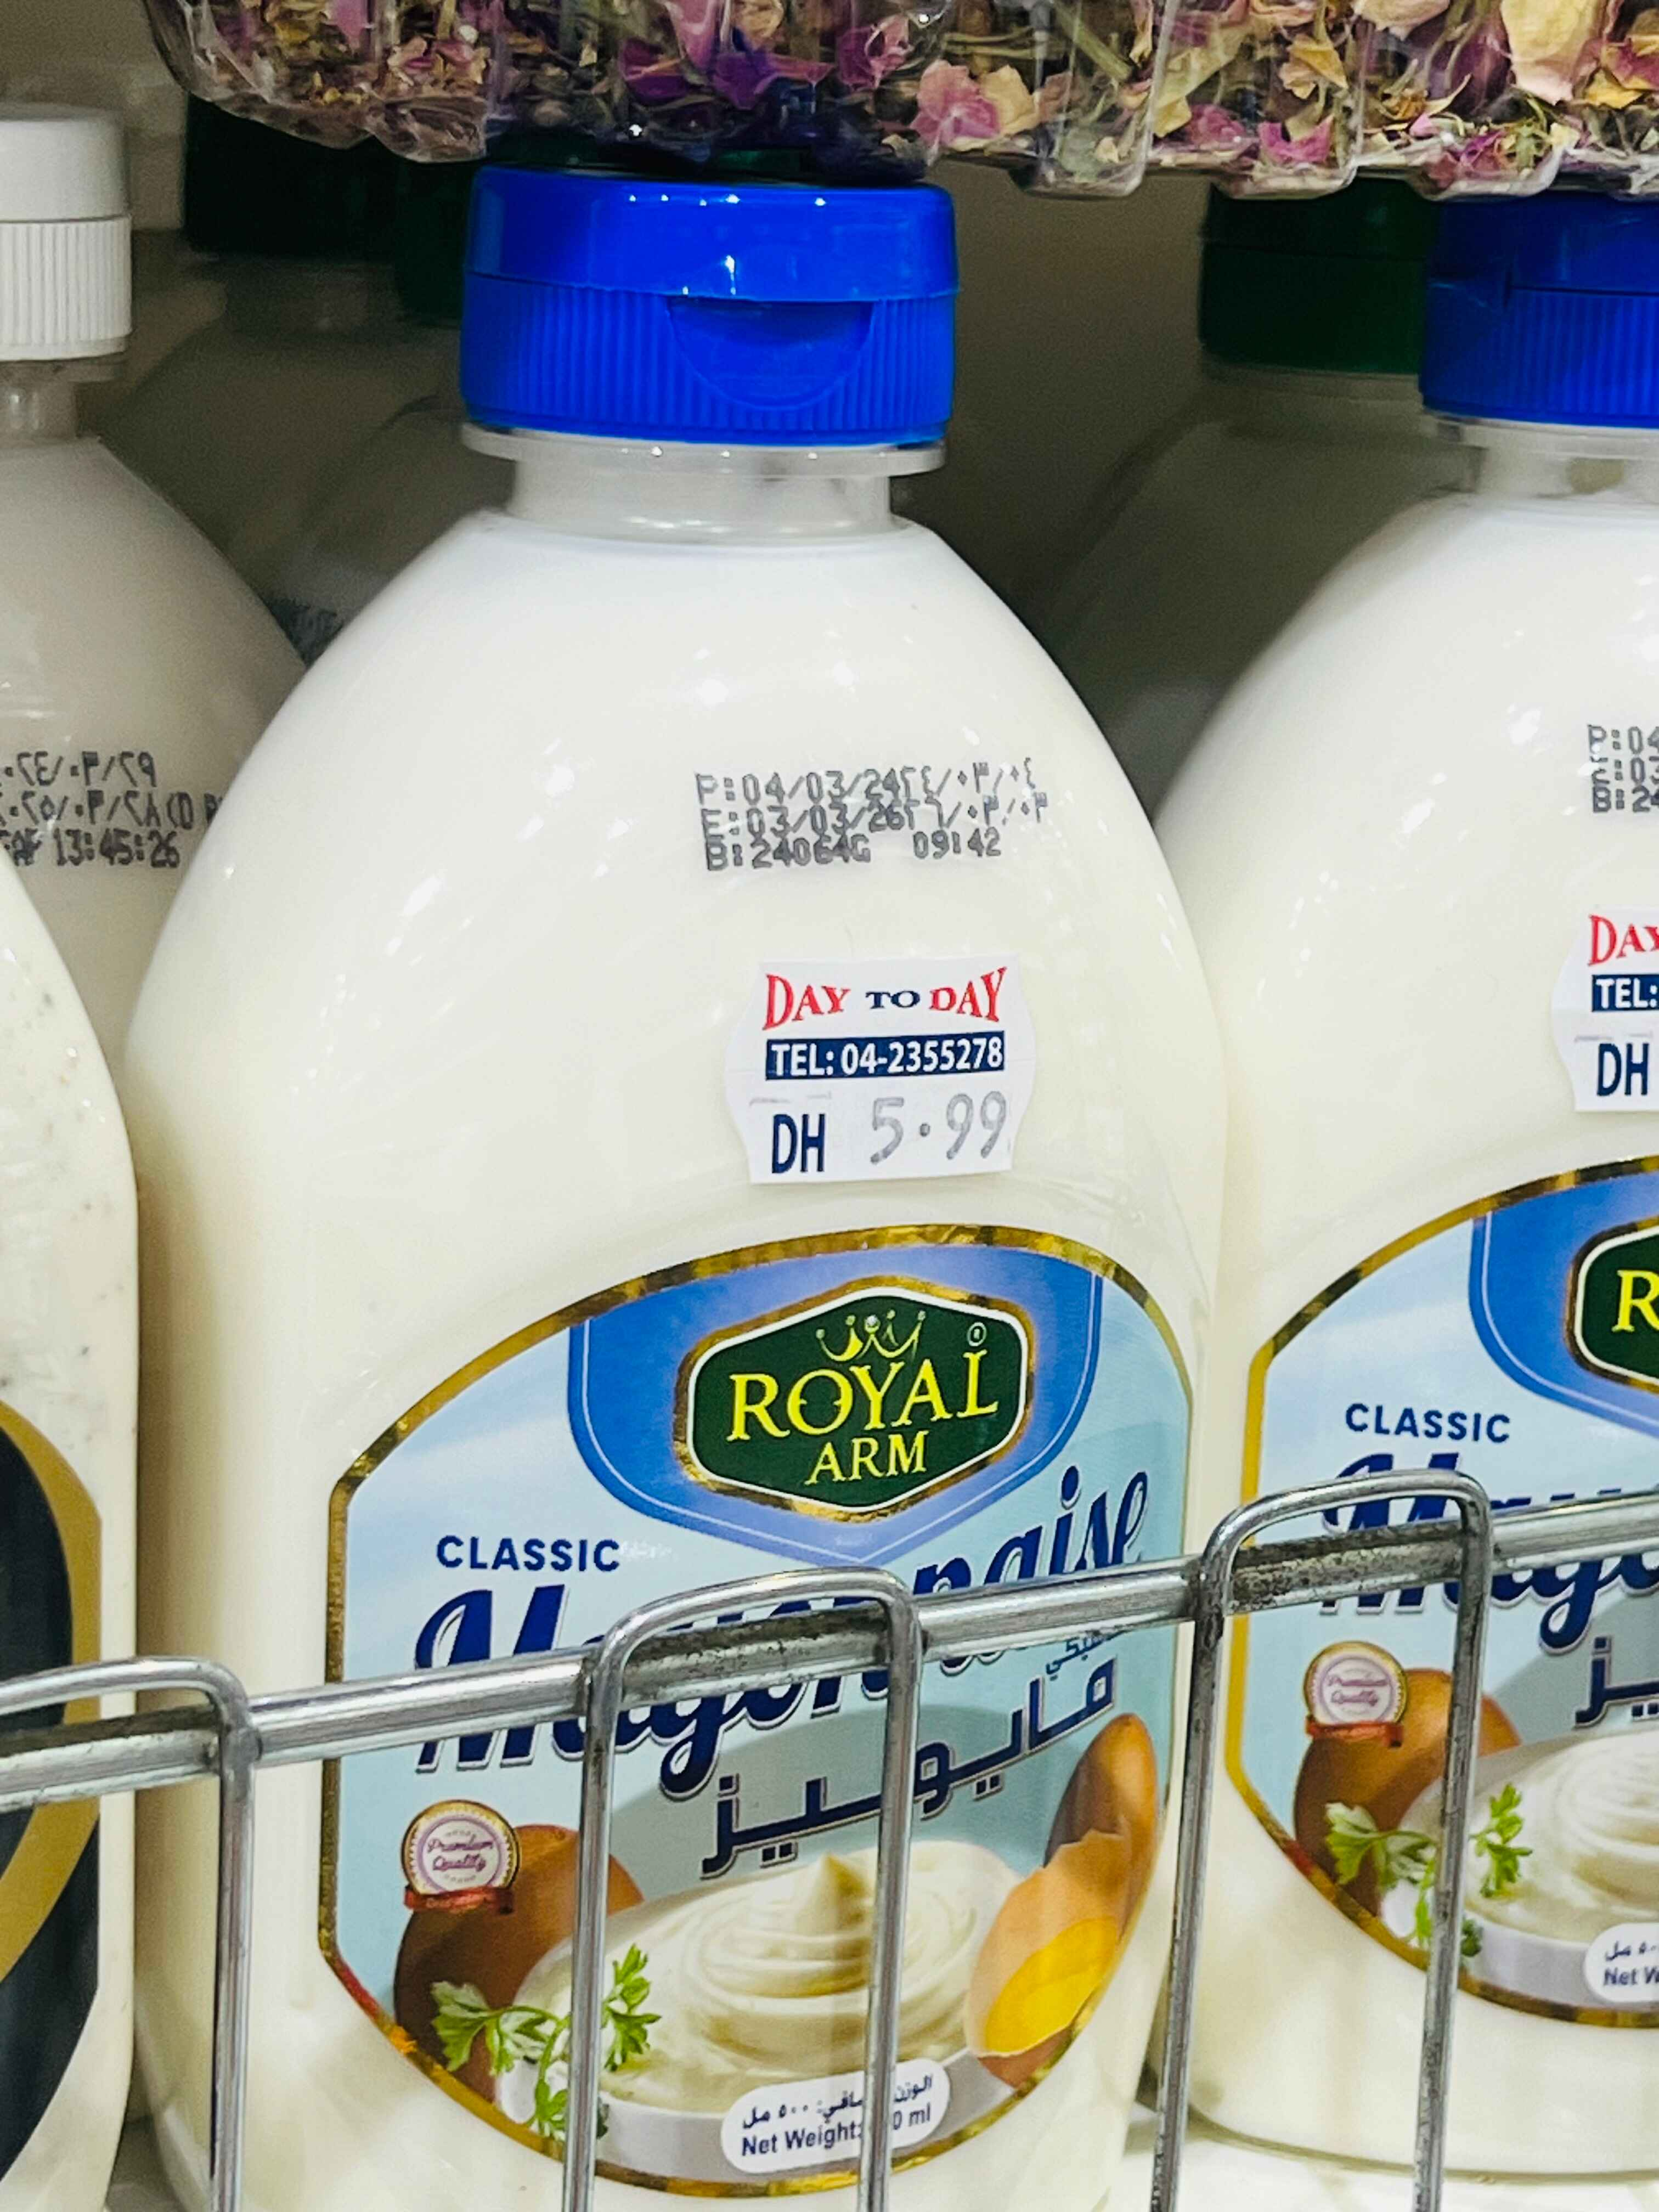PriceTagSmall: (728, 951, 1030, 1181), (1544, 897, 1659, 1120)
